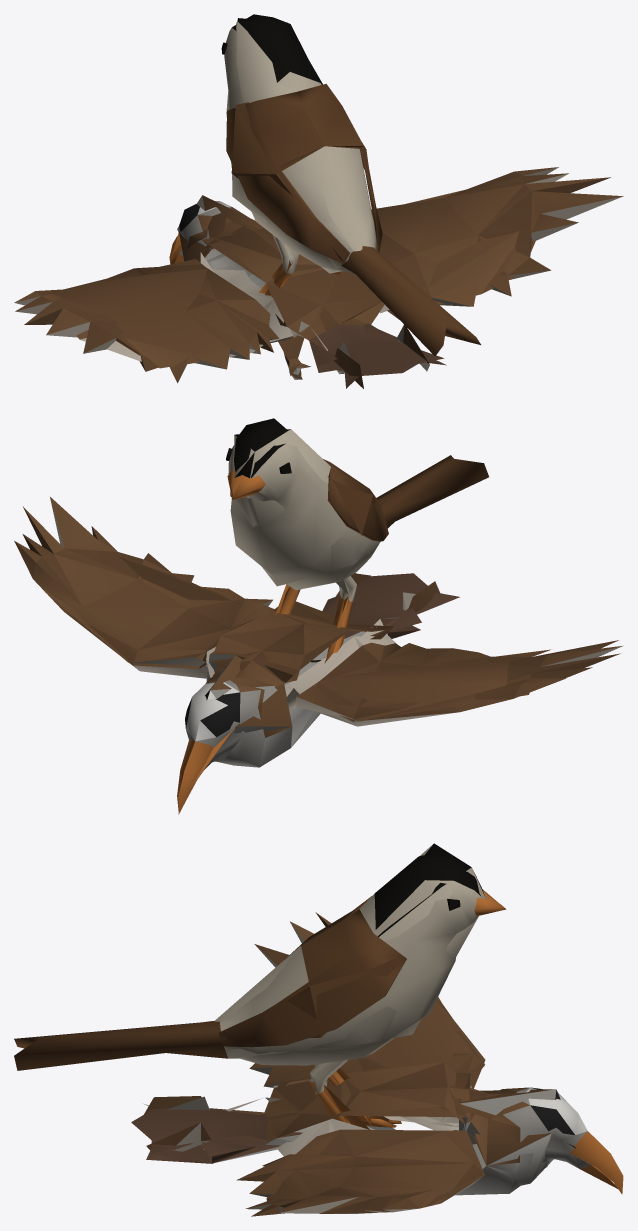
Rendered from sparrow.glb.
3 renders of one model, top to bottom at view 1: azimuth 30°, elevation 25°; view 2: azimuth 150°, elevation 25°; view 3: azimuth 270°, elevation 25°, orthographic. The views are drawn at different scales.
Visible parts, largest first — view 1: stand, fly_low, fly_wing_r, fly_wing_l, fly, stand_low; view 2: stand, fly_wing_r, fly_low, fly, fly_wing_l, stand_low; view 3: stand, fly, fly_low, fly_wing_r, stand_low, fly_wing_l.
Boxes of the visible parts, x1=… form: stand: x1=221, y1=14, x2=480, y2=356; fly_low: x1=51, y1=189, x2=535, y2=368; fly_wing_r: x1=371, y1=167, x2=623, y2=371; fly_wing_l: x1=14, y1=252, x2=363, y2=388; fly: x1=169, y1=201, x2=446, y2=388; stand_low: x1=231, y1=18, x2=379, y2=296; stand: x1=226, y1=418, x2=488, y2=653; fly_wing_r: x1=14, y1=497, x2=274, y2=678; fly_low: x1=44, y1=557, x2=529, y2=804; fly: x1=177, y1=573, x2=459, y2=814; fly_wing_l: x1=285, y1=581, x2=623, y2=726; stand_low: x1=234, y1=429, x2=396, y2=663; stand: x1=14, y1=855, x2=506, y2=1127; fly: x1=131, y1=1062, x2=623, y2=1195; fly_low: x1=146, y1=999, x2=575, y2=1205; fly_wing_r: x1=146, y1=1118, x2=482, y2=1216; stand_low: x1=167, y1=843, x2=485, y2=1129; fly_wing_l: x1=144, y1=912, x2=484, y2=1126.
Bounding box in the file's own units: 0.22 × 0.1144 × 0.1858.
